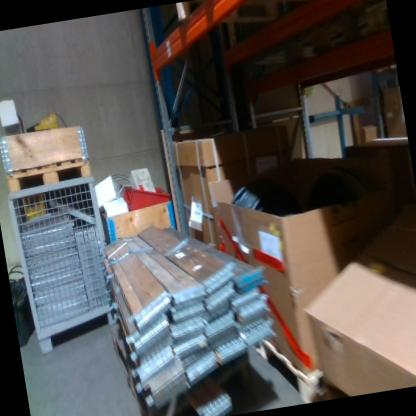pallet: (253, 327, 330, 409), (3, 155, 93, 196)
stillage: (7, 176, 120, 356)
